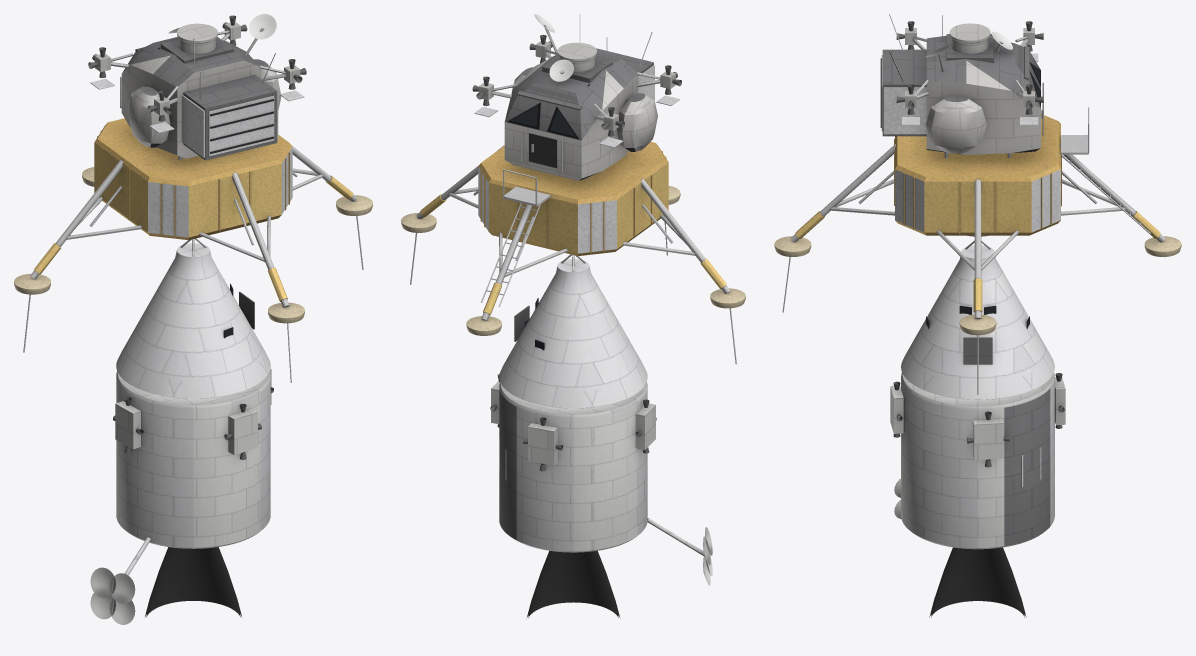
The model's file is apollo.glb.
3 renders of one model, left to right at view 1: azimuth 30°, elevation 25°; view 2: azimuth 150°, elevation 25°; view 3: azimuth 270°, elevation 25°, orthographic. The views are drawn at different scales.
Parts seen in each view (by area): view 1: SM, LMAscent, CM, LMDescent, Leg3, Leg2, Leg0; view 2: SM, LMAscent, CM, LMDescent, Leg1, Leg2, Leg0; view 3: SM, LMAscent, LMDescent, CM, Leg3, Leg1, Leg0.
Part boxes in pixels (x1,y1,x2,y2): SM: (90,368,273,624); LMAscent: (88,14,306,160); CM: (116,238,270,398); LMDescent: (94,76,292,240); Leg3: (199,172,304,382); Leg2: (14,159,141,352); Leg0: (292,146,372,269); SM: (490,374,712,617); LMAscent: (472,14,681,180); CM: (499,254,647,408); LMDescent: (478,142,668,255); Leg1: (466,203,567,335); Leg2: (623,179,745,364); Leg0: (401,145,504,284); SM: (890,373,1065,617); LMAscent: (880,14,1043,157); LMDescent: (894,107,1089,236); CM: (901,240,1054,399); Leg3: (774,144,895,312); Leg1: (1060,144,1181,256); Leg0: (937,179,1018,394).
Size of the model in its own units: 10.34 by 16.88 by 10.34.
Materials: 16 (15 with a texture image).
